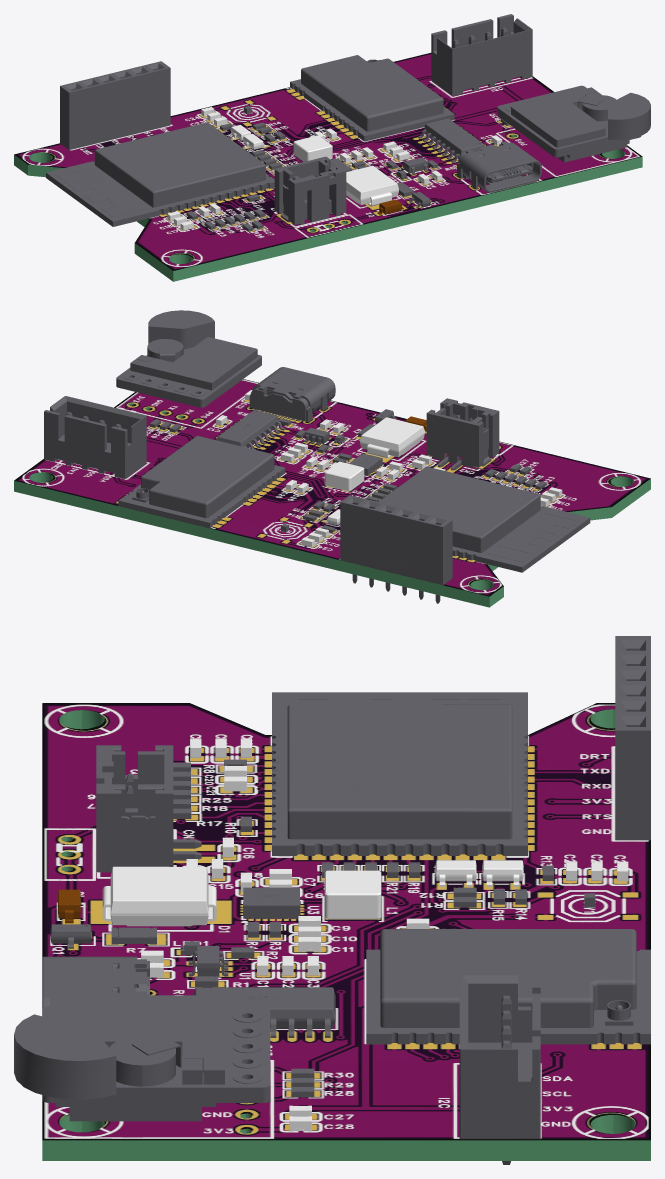
File: receiver.glb
3 views of the same model, one above another, from view 1: azimuth 30°, elevation 25°; view 2: azimuth 150°, elevation 25°; view 3: azimuth 270°, elevation 25° (orthographic). The views are drawn at different scales.
Visible parts, largest first — view 1: Board-mesh, U4-mesh, U6-mesh, GPS1-mesh (×2), U5-mesh, CN1-mesh, CN2-mesh, USB1-mesh (×2), D1-mesh, U8-mesh, L1-mesh; view 2: Board-mesh, U4-mesh, U6-mesh, GPS1-mesh (×2), U5-mesh, CN1-mesh, CN2-mesh, USB1-mesh (×2), D1-mesh, U8-mesh, L1-mesh; view 3: Board-mesh, U4-mesh, GPS1-mesh (×2), U6-mesh, CN1-mesh, CN2-mesh (×2), U5-mesh, D1-mesh, USB1-mesh, U8-mesh, L1-mesh, U3-mesh (+4 smaller).
Boxes of the visible parts, x1=… form: Board-mesh: x1=14, y1=53, x2=642, y2=281; U4-mesh: x1=46, y1=122, x2=274, y2=226; U6-mesh: x1=290, y1=55, x2=454, y2=141; GPS1-mesh (×2): x1=497, y1=85, x2=650, y2=162; U5-mesh: x1=60, y1=61, x2=170, y2=149; CN1-mesh: x1=431, y1=14, x2=532, y2=96; CN2-mesh: x1=274, y1=156, x2=346, y2=225; USB1-mesh (×2): x1=457, y1=141, x2=541, y2=192; D1-mesh: x1=346, y1=165, x2=398, y2=206; U8-mesh: x1=424, y1=118, x2=484, y2=158; L1-mesh: x1=293, y1=135, x2=332, y2=161; Board-mesh: x1=14, y1=379, x2=650, y2=607; U4-mesh: x1=378, y1=466, x2=590, y2=572; U6-mesh: x1=118, y1=436, x2=285, y2=528; GPS1-mesh (×2): x1=116, y1=310, x2=261, y2=407; U5-mesh: x1=340, y1=495, x2=452, y2=603; CN1-mesh: x1=44, y1=396, x2=146, y2=478; CN2-mesh: x1=426, y1=398, x2=499, y2=470; USB1-mesh (×2): x1=249, y1=367, x2=335, y2=422; D1-mesh: x1=360, y1=417, x2=424, y2=458; U8-mesh: x1=217, y1=410, x2=278, y2=447; L1-mesh: x1=324, y1=461, x2=364, y2=491; Board-mesh: x1=42, y1=703, x2=650, y2=1160; U4-mesh: x1=272, y1=692, x2=527, y2=855; GPS1-mesh (×2): x1=14, y1=995, x2=270, y2=1121; U6-mesh: x1=366, y1=929, x2=650, y2=1044; CN1-mesh: x1=459, y1=974, x2=540, y2=1164; CN2-mesh (×2): x1=96, y1=745, x2=201, y2=872; U5-mesh: x1=615, y1=636, x2=650, y2=840; D1-mesh: x1=102, y1=866, x2=216, y2=926; USB1-mesh: x1=42, y1=956, x2=146, y2=1008; U8-mesh: x1=193, y1=987, x2=335, y2=1028; L1-mesh: x1=324, y1=870, x2=381, y2=919; U3-mesh: x1=243, y1=887, x2=300, y2=918.
Bounding box in the file's own units: 0.0748 × 0.012 × 0.0448.
6 materials, 2 textured.
